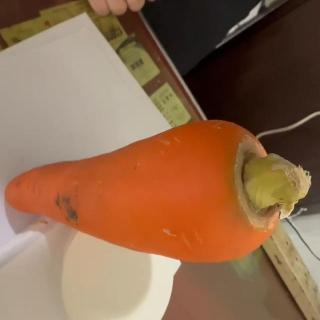carrot: (0, 120, 310, 266)
